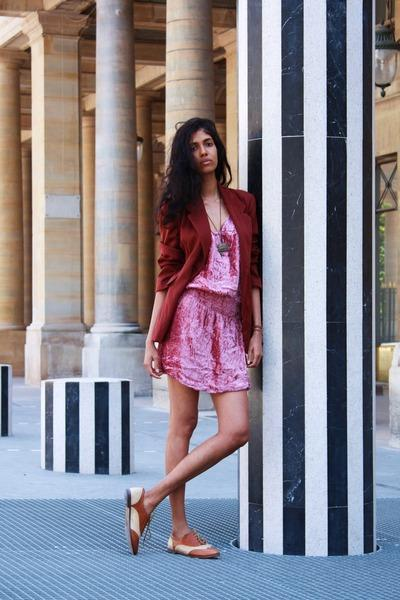dress: (166, 228, 250, 397)
jacket: (152, 180, 263, 354)
shoe: (116, 474, 216, 554)
